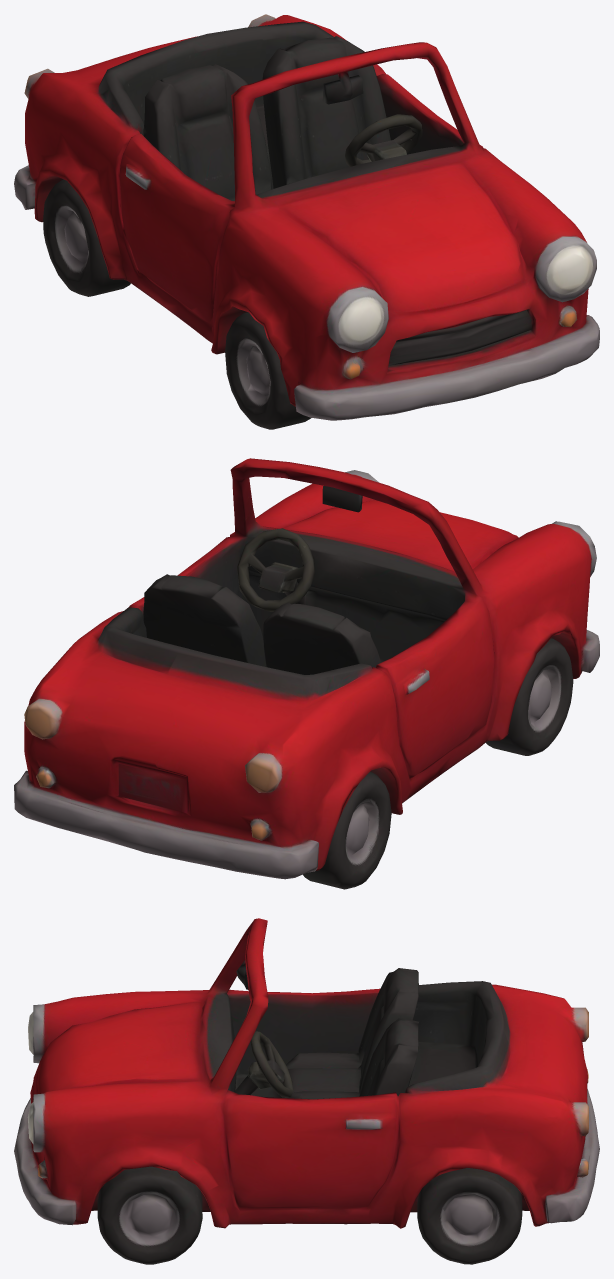
Rendered from car_player_runabout.glb.
The picture shows the model from 3 angles, top to bottom: view 1: azimuth 30°, elevation 25°; view 2: azimuth 150°, elevation 25°; view 3: azimuth 270°, elevation 25°; orthographic projection. The views are drawn at different scales.
Parts seen in each view (by area): view 1: tripo_node_d38428ec-c2b3-4825-9d2a-426d04382bf3; view 2: tripo_node_d38428ec-c2b3-4825-9d2a-426d04382bf3; view 3: tripo_node_d38428ec-c2b3-4825-9d2a-426d04382bf3.
Part boxes in pixels (x1,y1,x2,y2): tripo_node_d38428ec-c2b3-4825-9d2a-426d04382bf3: (14,14,599,429); tripo_node_d38428ec-c2b3-4825-9d2a-426d04382bf3: (14,458,599,889); tripo_node_d38428ec-c2b3-4825-9d2a-426d04382bf3: (14,918,599,1264).
Size of the model in its own units: 0.529 by 0.4761 by 1.
Materials: 1 (1 with a texture image).
